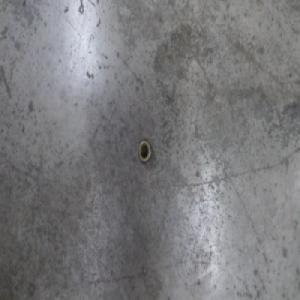Nut: (137, 138, 151, 165)
